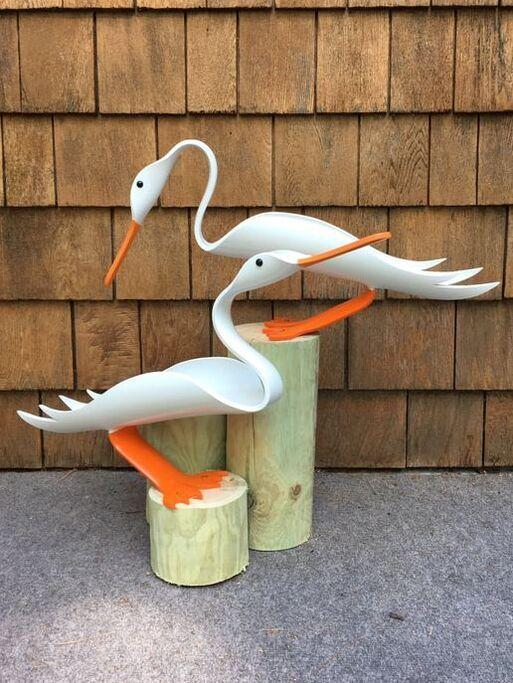PVC: (0, 118, 513, 602)
